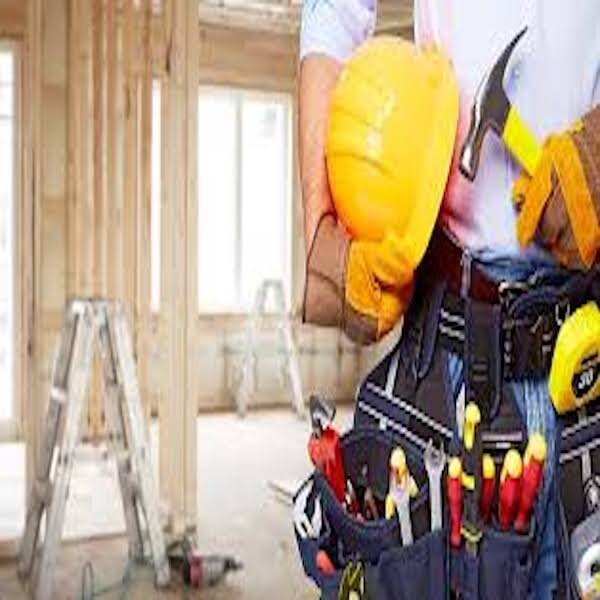helmet: (331, 33, 457, 287)
